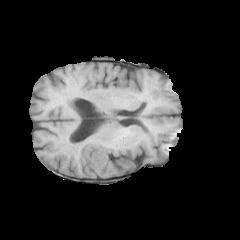glioma: (81, 137, 140, 173)
